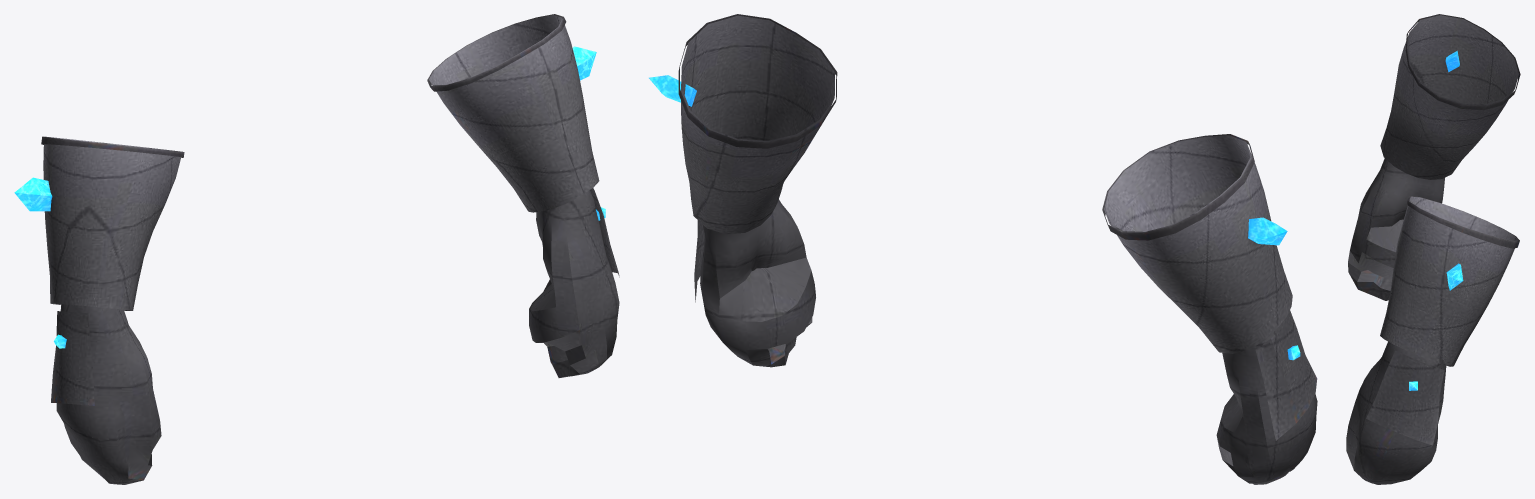
File: Luvas_de_Energia_nivel100.glb
3 views of the same model, side by side, from view 1: azimuth 30°, elevation 25°; view 2: azimuth 150°, elevation 25°; view 3: azimuth 270°, elevation 25° (orthographic). The views are drawn at different scales.
Visible parts, largest first — view 1: luvas_de_energia_nivel100; view 2: luvas_de_energia_nivel100; view 3: luvas_de_energia_nivel100.
Part boxes in pixels (box(x1,y1,x2,y2)): luvas_de_energia_nivel100: box(14, 14, 619, 484); luvas_de_energia_nivel100: box(649, 14, 1317, 484); luvas_de_energia_nivel100: box(1346, 14, 1520, 484).
Size of the model in its own units: 0.7128 by 0.3873 by 0.2184.
1 material, 1 textured.
